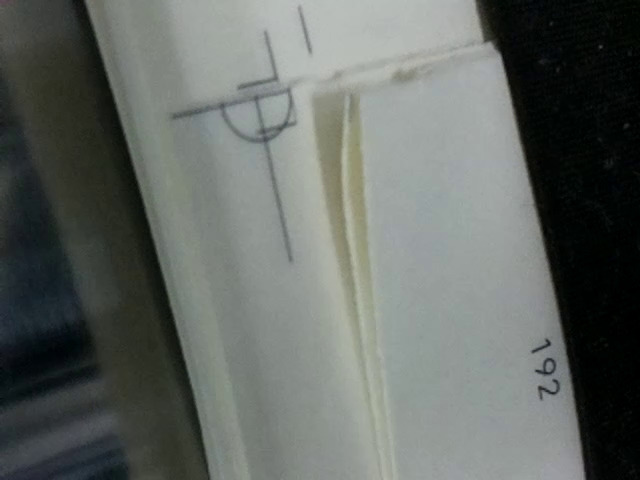misaligned: (169, 29, 299, 149)
